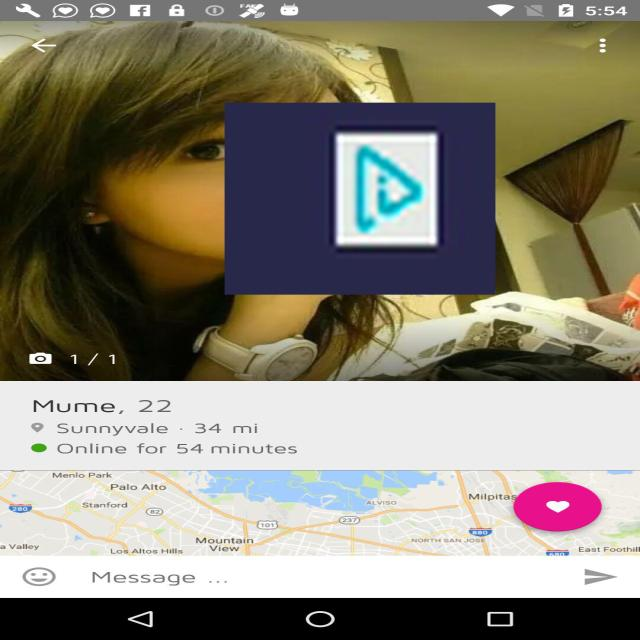sneaking: (224, 103, 496, 294)
